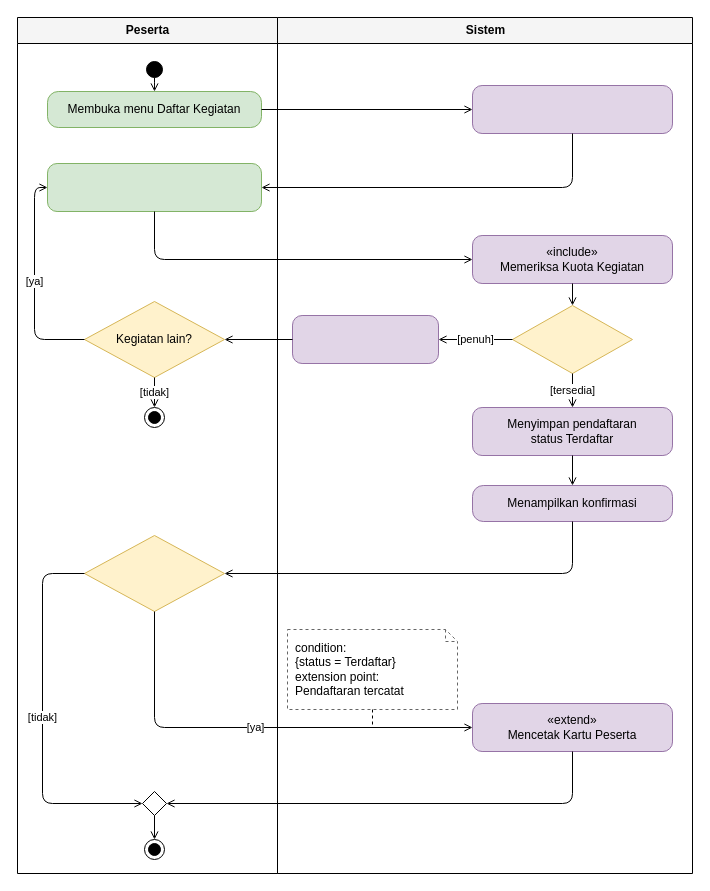
The diagram is 710 pixels wide and 891 high, and some of its shapes have lost their labels. Each missing label, with the centre of its shape:
Cetak kartu?: [154,573]
Kuota tersedia?: [572,339]
Memilih kegiatan lalu menekan Daftar: [154,187]
Menampilkan pesan kuota penuh: [365,339]
«include» Melihat Daftar Kegiatan: [572,109]
